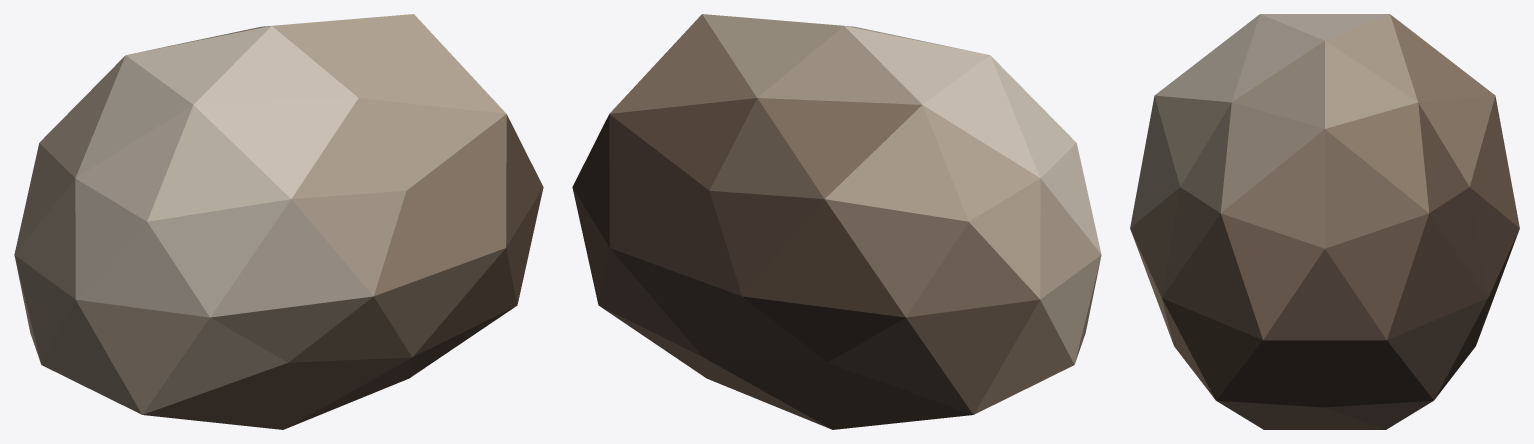
Rendered from boulder.glb.
3 views of the same model, side by side, from view 1: azimuth 30°, elevation 25°; view 2: azimuth 150°, elevation 25°; view 3: azimuth 270°, elevation 25° (orthographic). The views are drawn at different scales.
Parts seen in each view (by area): view 1: boulder; view 2: boulder; view 3: boulder.
Part boxes in pixels (left/top/right/bottom): boulder: left=14, top=14, right=543, bottom=429; boulder: left=572, top=14, right=1101, bottom=429; boulder: left=1130, top=14, right=1519, bottom=429.
Bounding box in the file's own units: 0.9118 × 0.7197 × 0.6846.
